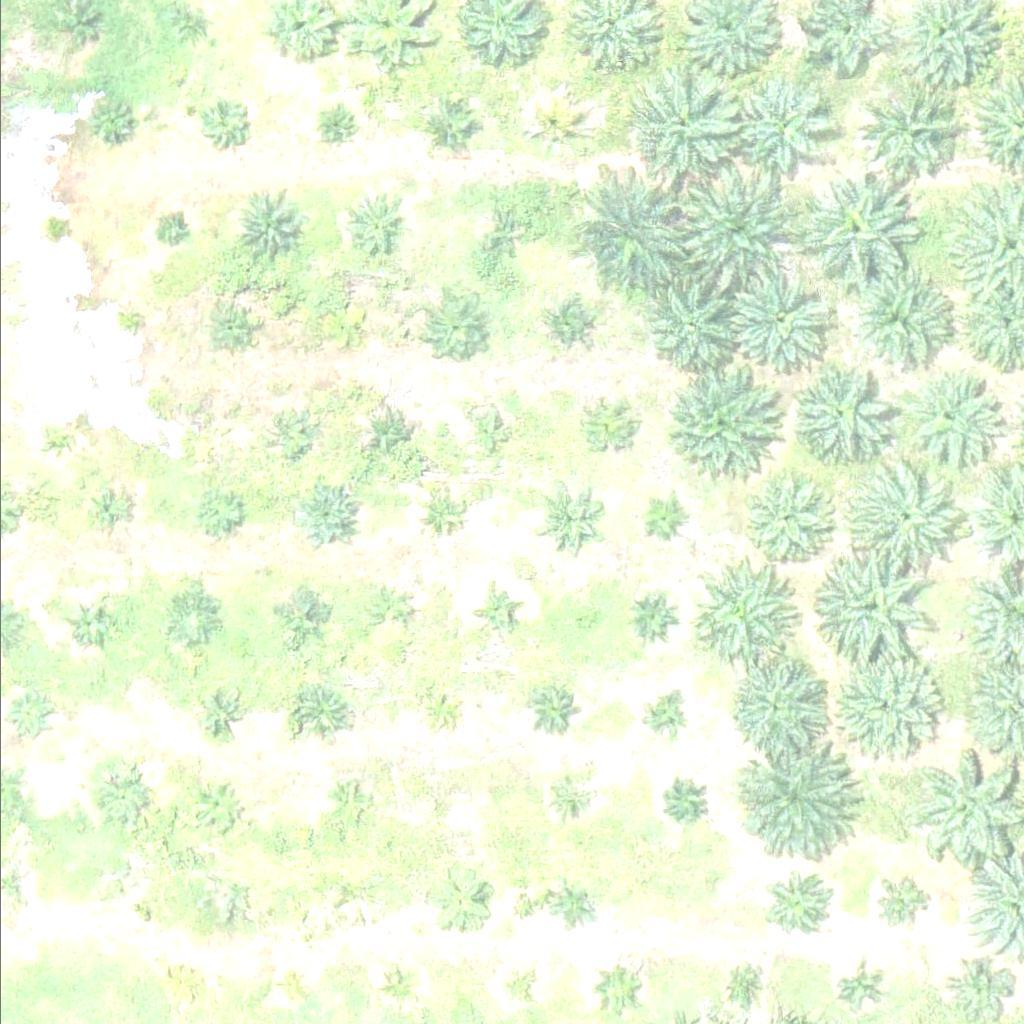Kelapa_Sawit: (808, 547, 934, 672), (842, 455, 968, 580), (677, 165, 803, 290), (566, 173, 692, 298), (728, 743, 853, 868), (658, 364, 772, 477), (827, 644, 940, 757), (621, 73, 734, 186), (728, 265, 842, 377), (808, 175, 922, 287), (677, 553, 790, 665), (728, 654, 829, 754), (734, 468, 835, 568), (898, 369, 999, 469), (732, 77, 833, 177), (790, 361, 890, 461), (851, 274, 951, 374), (863, 83, 963, 183), (643, 283, 731, 371), (230, 187, 306, 262), (762, 867, 837, 942), (529, 485, 592, 548), (575, 391, 638, 454), (91, 758, 154, 821), (293, 487, 356, 550), (947, 954, 1010, 1017), (458, 402, 521, 465), (420, 295, 483, 357), (341, 195, 404, 257), (289, 682, 352, 744), (188, 776, 251, 838), (428, 872, 491, 934), (471, 199, 534, 261), (166, 594, 217, 644), (284, 592, 335, 642), (362, 412, 413, 462), (869, 881, 920, 931), (419, 488, 470, 538), (268, 413, 319, 463), (541, 292, 592, 342), (322, 301, 373, 351), (195, 489, 246, 539), (195, 687, 246, 737), (5, 691, 56, 741), (63, 599, 114, 649), (425, 102, 475, 152), (627, 592, 677, 642), (529, 686, 579, 736), (550, 882, 600, 932), (325, 782, 375, 832), (365, 585, 415, 635), (632, 493, 682, 543), (202, 307, 252, 357), (79, 484, 129, 534), (196, 96, 246, 146), (82, 99, 132, 149), (164, 3, 214, 53), (525, 103, 575, 153), (597, 976, 635, 1014), (669, 783, 707, 821), (496, 969, 534, 1007), (377, 967, 415, 1005), (270, 969, 308, 1007), (170, 965, 208, 1003), (423, 691, 461, 729), (478, 594, 516, 632), (643, 700, 681, 737), (545, 777, 583, 814), (416, 789, 454, 826), (118, 872, 156, 909), (836, 967, 873, 1004), (726, 971, 763, 1008), (157, 216, 183, 241), (47, 421, 72, 446), (120, 309, 145, 334), (322, 117, 347, 142)
